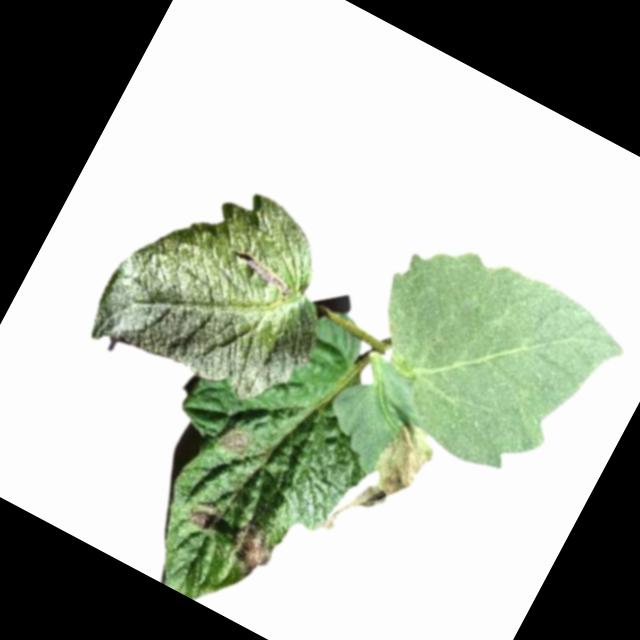Late_blight: (336, 414, 442, 547), (224, 515, 282, 580), (216, 422, 261, 464), (185, 499, 222, 534)
